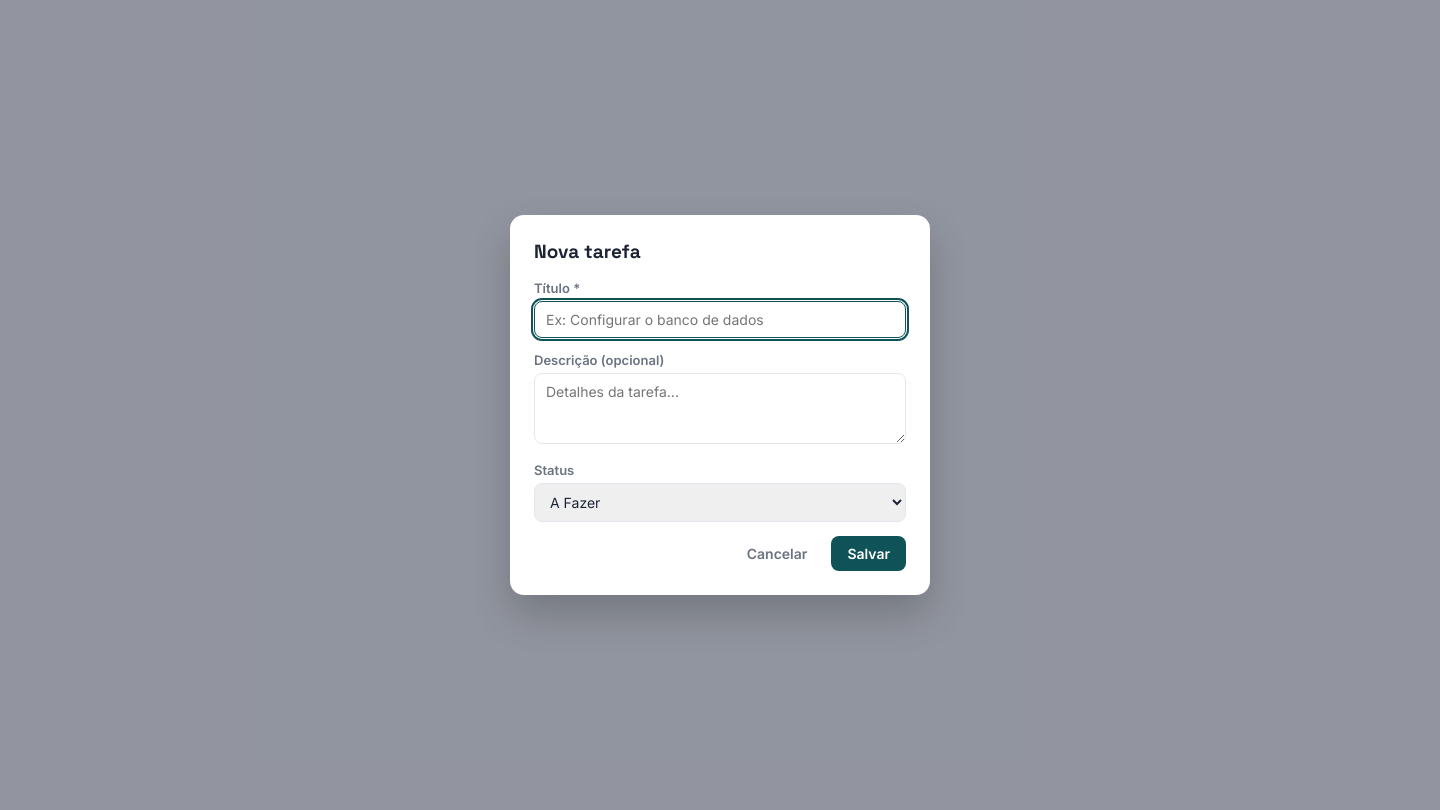
TaskModal › mostra erro ao tentar salvar sem título
Click the button "Salvar" at x=869, y=554, box [831,536,906,571]
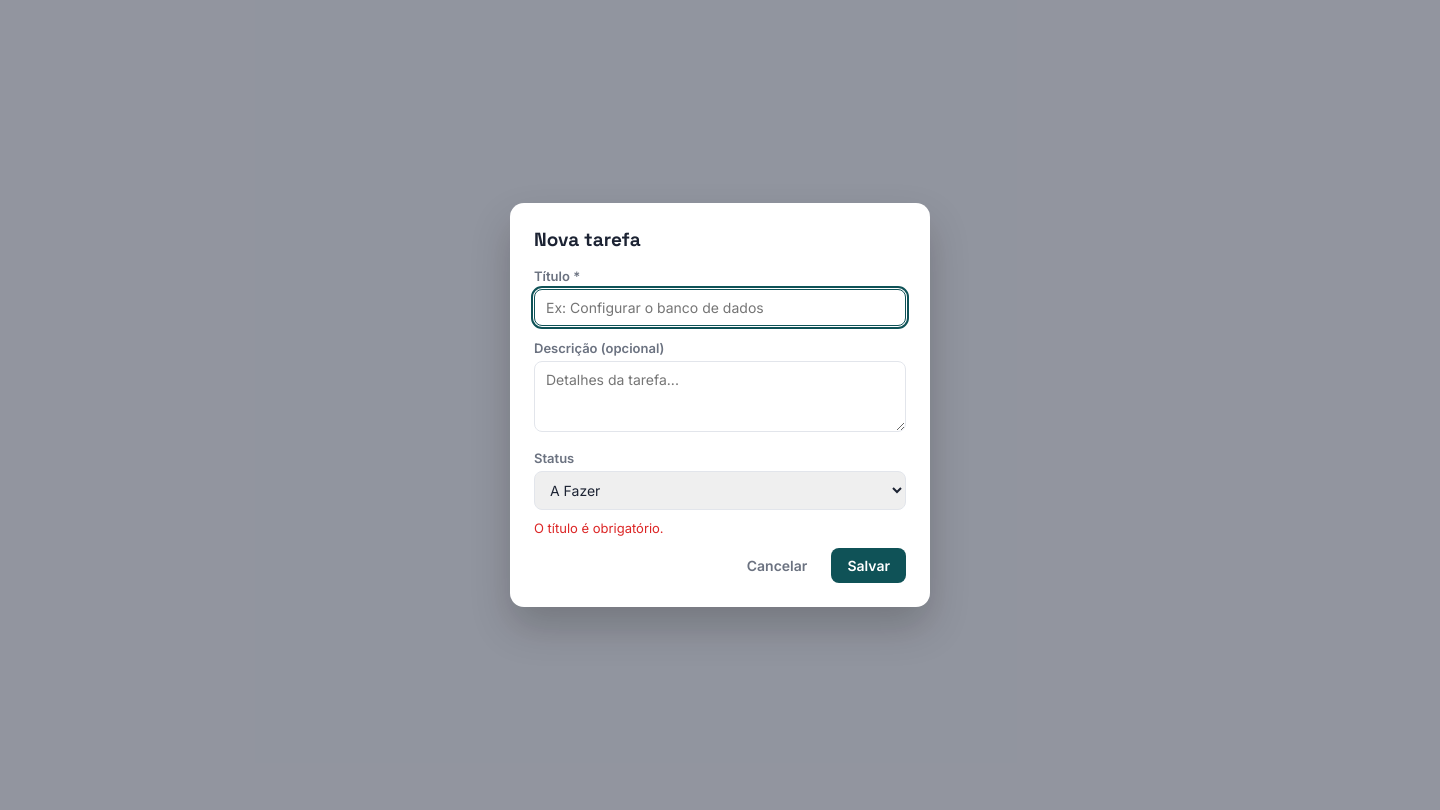
Now the text "O título é obrigatório." is shown, box [534,520,664,536]
